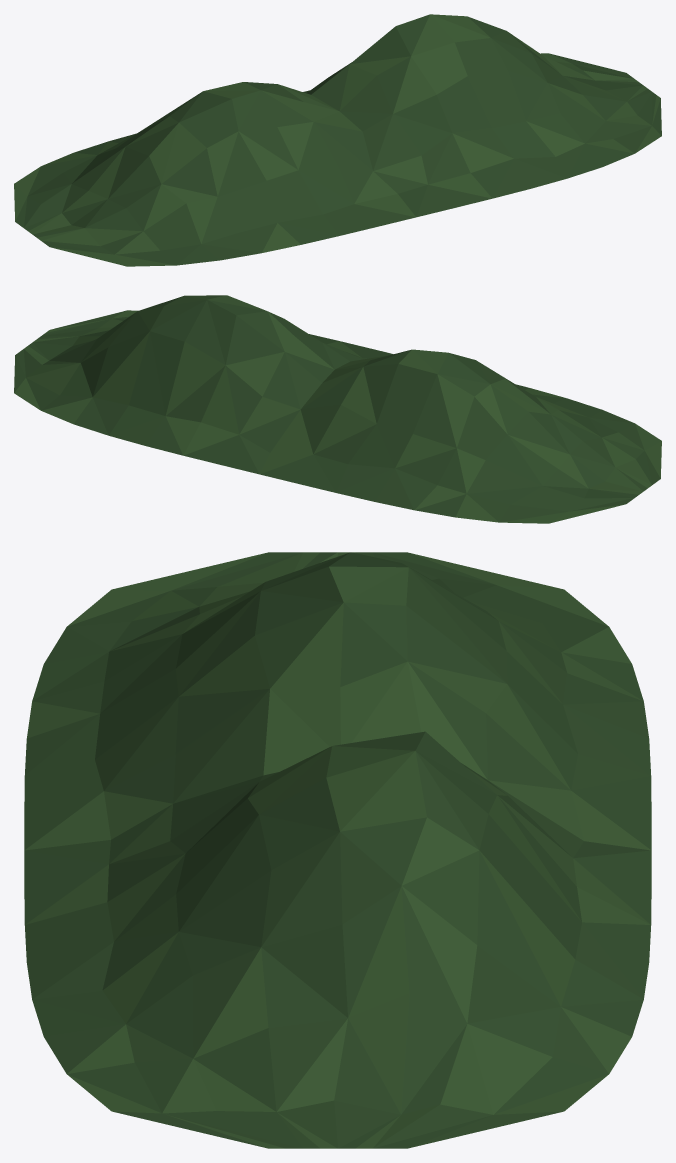
The model's file is World_HillSmall.fbx.
3 views of the same model, one above another, from view 1: azimuth 30°, elevation 25°; view 2: azimuth 150°, elevation 25°; view 3: azimuth 270°, elevation 25° (orthographic). The views are drawn at different scales.
Visible parts, largest first — view 1: Grass, GrassLight; view 2: Grass, GrassLight; view 3: Grass, GrassLight.
Part boxes in pixels (bbox=[...]): Grass: bbox=[15, 14, 661, 265]; GrassLight: bbox=[14, 14, 661, 266]; Grass: bbox=[14, 296, 660, 522]; GrassLight: bbox=[14, 295, 661, 523]; Grass: bbox=[24, 552, 651, 1148]; GrassLight: bbox=[25, 552, 650, 1148].
Size of the model in its own units: 9000 by 1467 by 4000.
